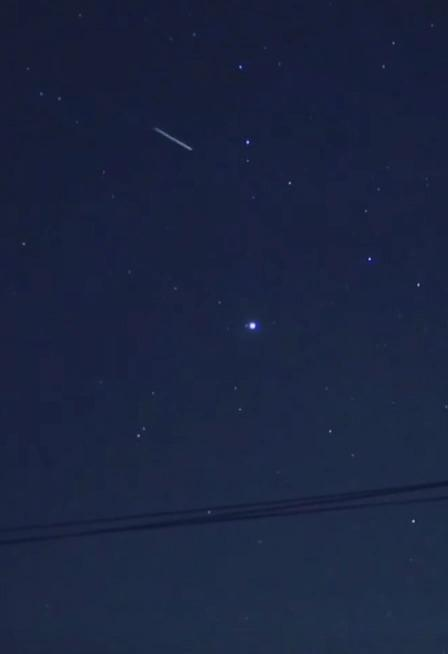meteorite: (136, 120, 207, 159)
